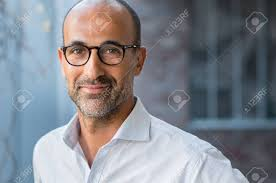Glasses: (60, 40, 139, 69)
